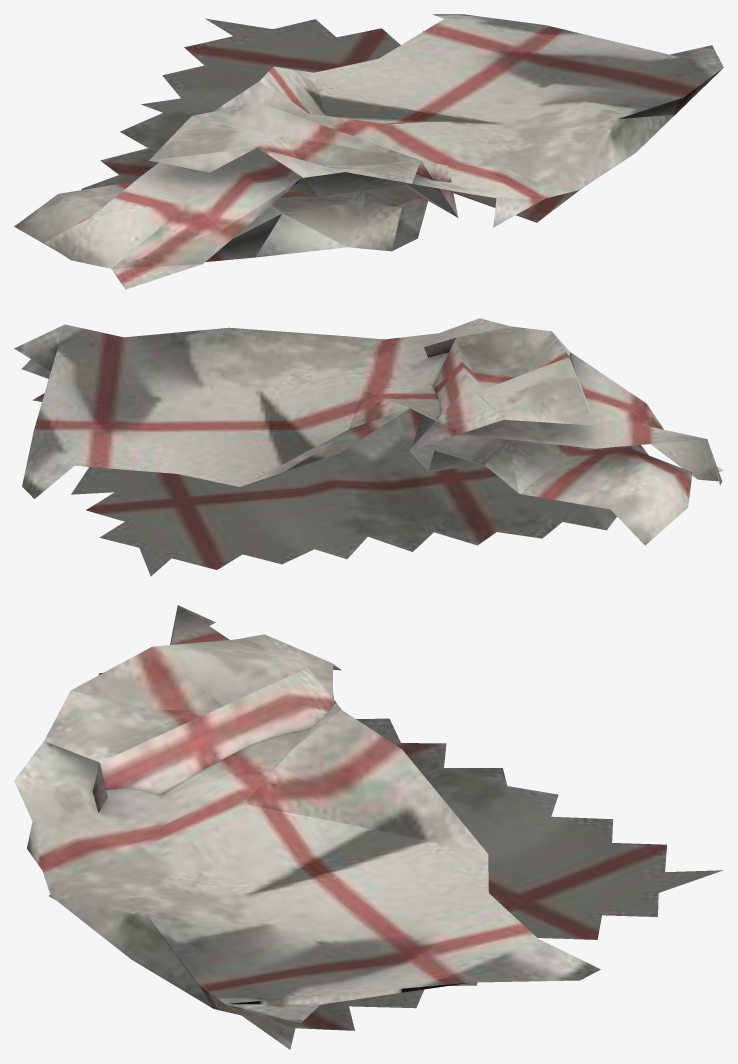
File: rag_kitchen_cloth_1_lod1_web.glb
The picture shows the model from 3 angles, top to bottom: view 1: azimuth 30°, elevation 25°; view 2: azimuth 150°, elevation 25°; view 3: azimuth 270°, elevation 25°; orthographic projection. The views are drawn at different scales.
Visible parts, largest first — view 1: rag_kitchen_cloth_1_Cloth; view 2: rag_kitchen_cloth_1_Cloth; view 3: rag_kitchen_cloth_1_Cloth.
Part boxes in pixels (bbox=[...]): rag_kitchen_cloth_1_Cloth: bbox=[14, 14, 723, 289]; rag_kitchen_cloth_1_Cloth: bbox=[14, 318, 723, 576]; rag_kitchen_cloth_1_Cloth: bbox=[14, 605, 722, 1049].
Size of the model in its own units: 0.3479 by 0.0473 by 0.2611.
Materials: 1 (1 with a texture image).
